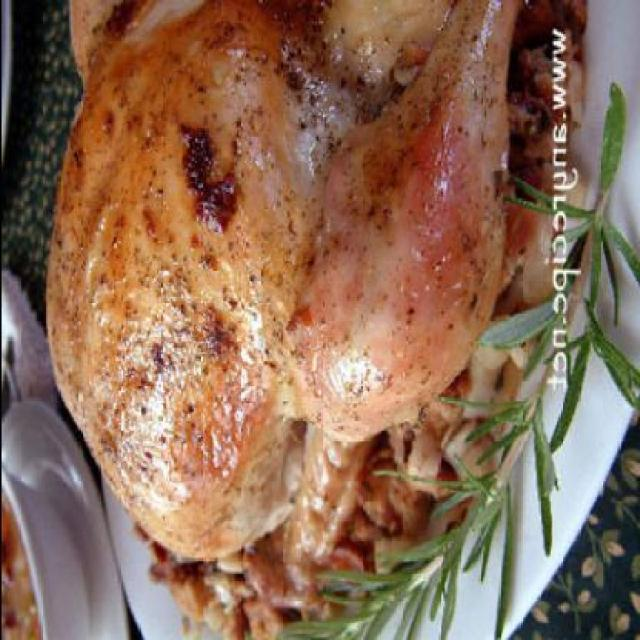Chicken: (60, 13, 485, 559)
